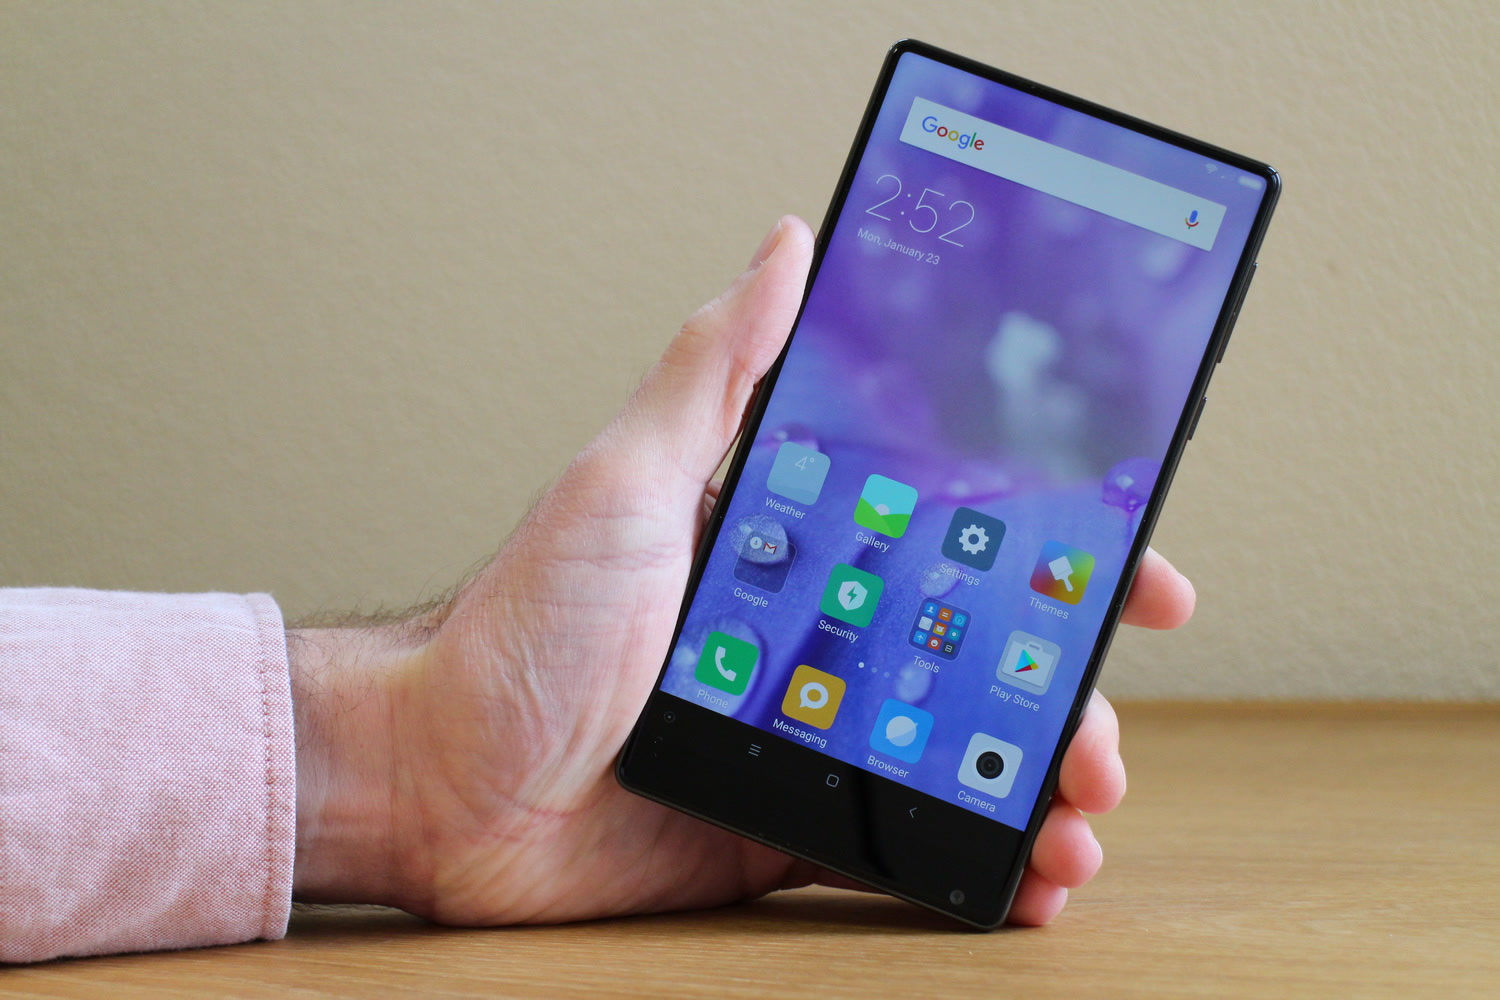smartphone: (612, 37, 1282, 932)
